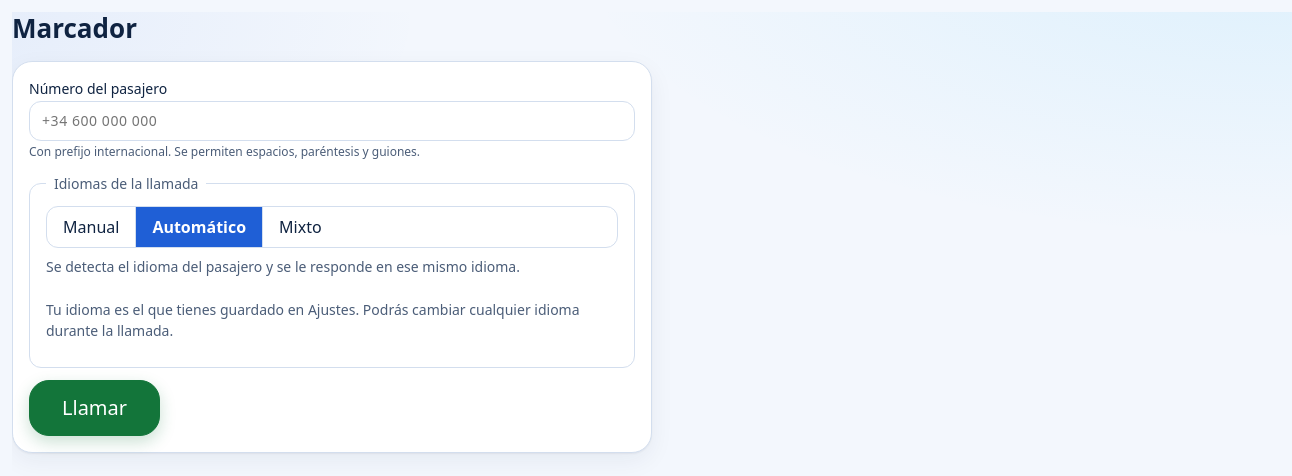
Test: <Dialer> › does not dial an invalid number and explains why
Type "hola" into the field labelled "Número del pasajero". click: (332, 120)
box: 29,100 -> 635,140
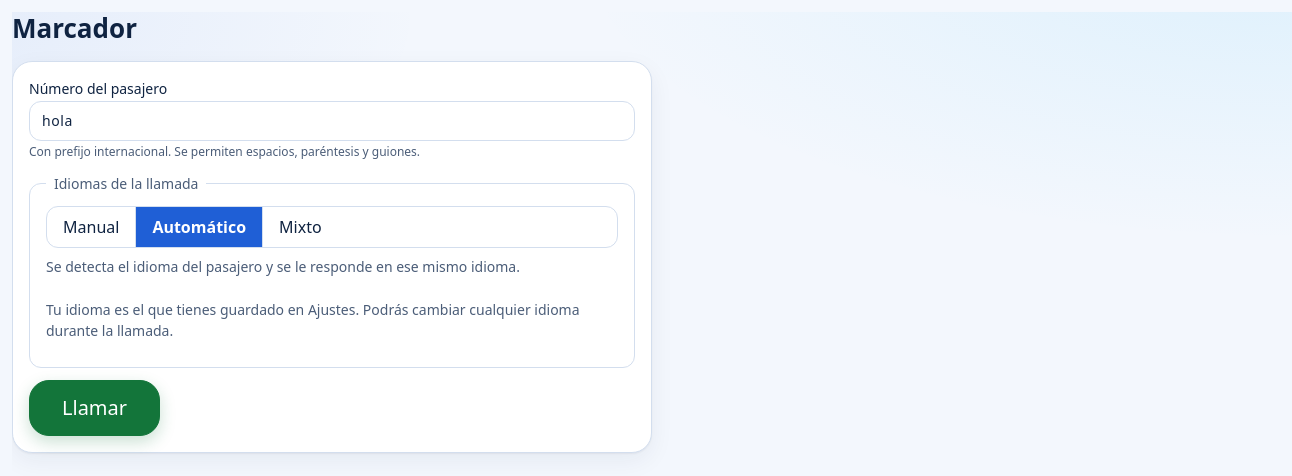
Click the button "Llamar". click: click(94, 408)
box: 29,380 -> 160,436
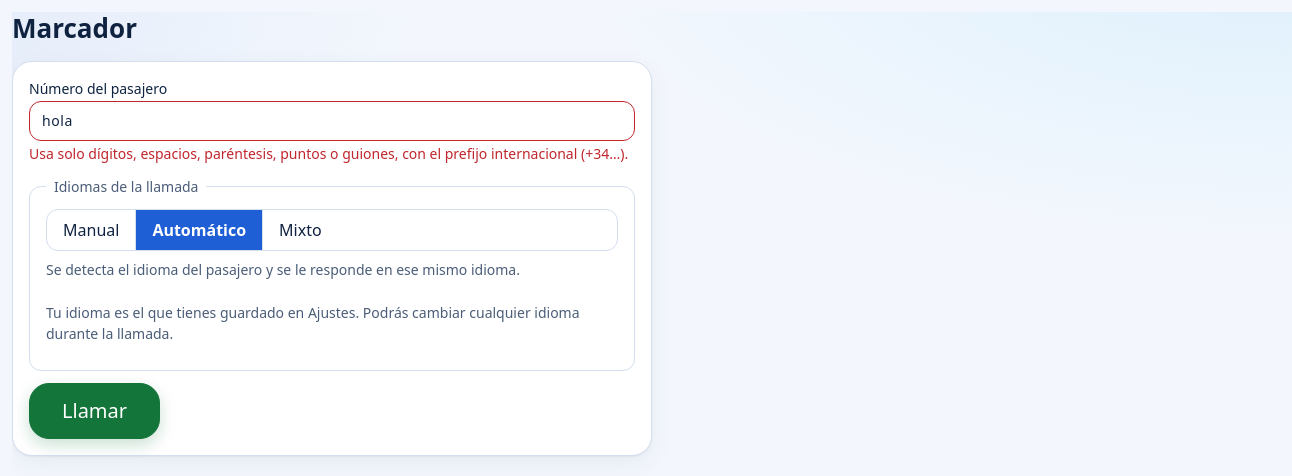
Expected: the message shows "dígitos", 29,144 -> 628,162
